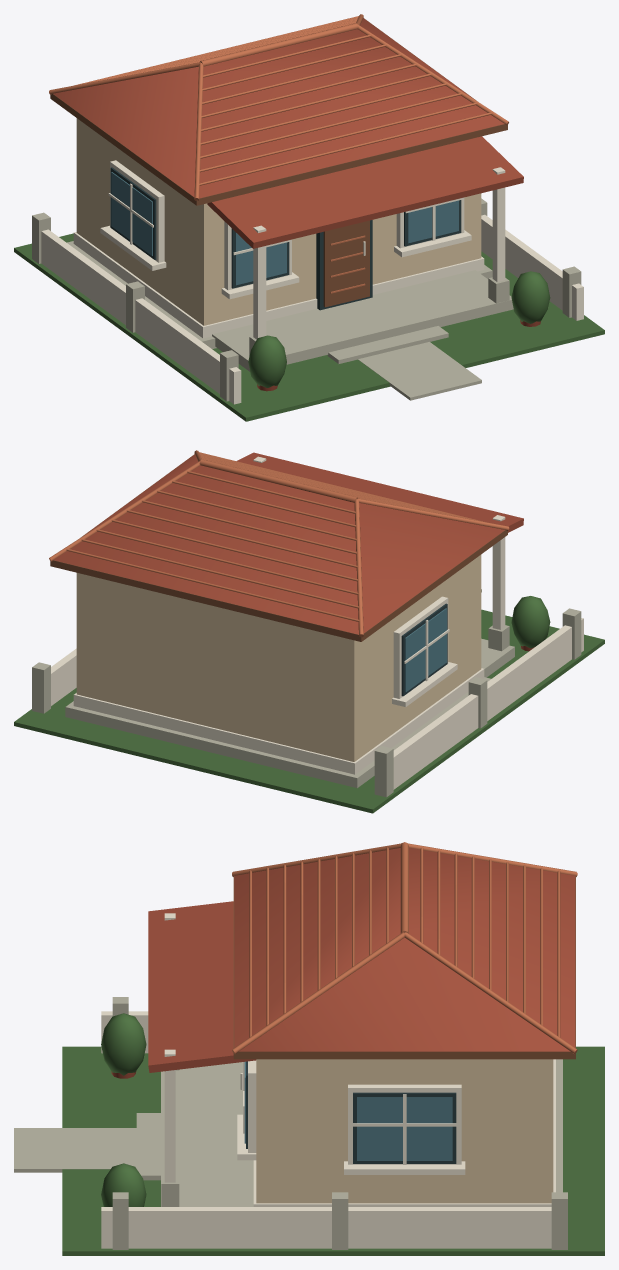
The model's file is house-sand.glb.
3 views of the same model, one above another, from view 1: azimuth 30°, elevation 25°; view 2: azimuth 150°, elevation 25°; view 3: azimuth 270°, elevation 25° (orthographic). The views are drawn at different scales.
Visible parts, largest first — view 1: Tropical_house_Terracotta, Tropical_house_Limestone_trim, Tropical_house_Paving, Tropical_house_Mineral_plaster, Tropical_house_Garden_foliage, Tropical_house_Tile_ridges, Tropical_house_Teak, Tropical_house_Blue_glazing, Tropical_house_Charcoal_frames; view 2: Tropical_house_Mineral_plaster, Tropical_house_Terracotta, Tropical_house_Limestone_trim, Tropical_house_Garden_foliage, Tropical_house_Tile_ridges, Tropical_house_Paving, Tropical_house_Teak, Tropical_house_Blue_glazing, Tropical_house_Charcoal_frames; view 3: Tropical_house_Terracotta, Tropical_house_Mineral_plaster, Tropical_house_Limestone_trim, Tropical_house_Garden_foliage, Tropical_house_Paving, Tropical_house_Tile_ridges, Tropical_house_Blue_glazing, Tropical_house_Teak, Tropical_house_Charcoal_frames.
Boxes of the visible parts, x1,y1,x2,y2 form: Tropical_house_Terracotta: [53, 18, 540, 391]; Tropical_house_Limestone_trim: [41, 160, 583, 404]; Tropical_house_Paving: [32, 198, 581, 401]; Tropical_house_Mineral_plaster: [76, 118, 481, 325]; Tropical_house_Garden_foliage: [14, 233, 604, 421]; Tropical_house_Tile_ridges: [49, 14, 508, 293]; Tropical_house_Teak: [50, 18, 507, 307]; Tropical_house_Blue_glazing: [111, 172, 458, 285]; Tropical_house_Charcoal_frames: [110, 167, 461, 310]; Tropical_house_Mineral_plaster: [76, 555, 481, 761]; Tropical_house_Terracotta: [53, 452, 534, 651]; Tropical_house_Limestone_trim: [51, 456, 583, 789]; Tropical_house_Garden_foliage: [14, 596, 604, 813]; Tropical_house_Tile_ridges: [49, 450, 509, 637]; Tropical_house_Paving: [32, 589, 581, 797]; Tropical_house_Teak: [50, 454, 507, 641]; Tropical_house_Blue_glazing: [405, 608, 446, 692]; Tropical_house_Charcoal_frames: [401, 603, 447, 696]; Tropical_house_Terracotta: [111, 848, 575, 1078]; Tropical_house_Mineral_plaster: [256, 1059, 553, 1203]; Tropical_house_Limestone_trim: [101, 913, 555, 1248]; Tropical_house_Garden_foliage: [62, 1013, 604, 1255]; Tropical_house_Paving: [14, 997, 567, 1249]; Tropical_house_Tile_ridges: [232, 842, 577, 1054]; Tropical_house_Blue_glazing: [244, 1061, 452, 1160]; Tropical_house_Teak: [233, 875, 575, 1059]; Tropical_house_Charcoal_frames: [246, 1061, 456, 1163].
Bounding box in the file's own units: 7.5 × 4.57 × 9.15.
